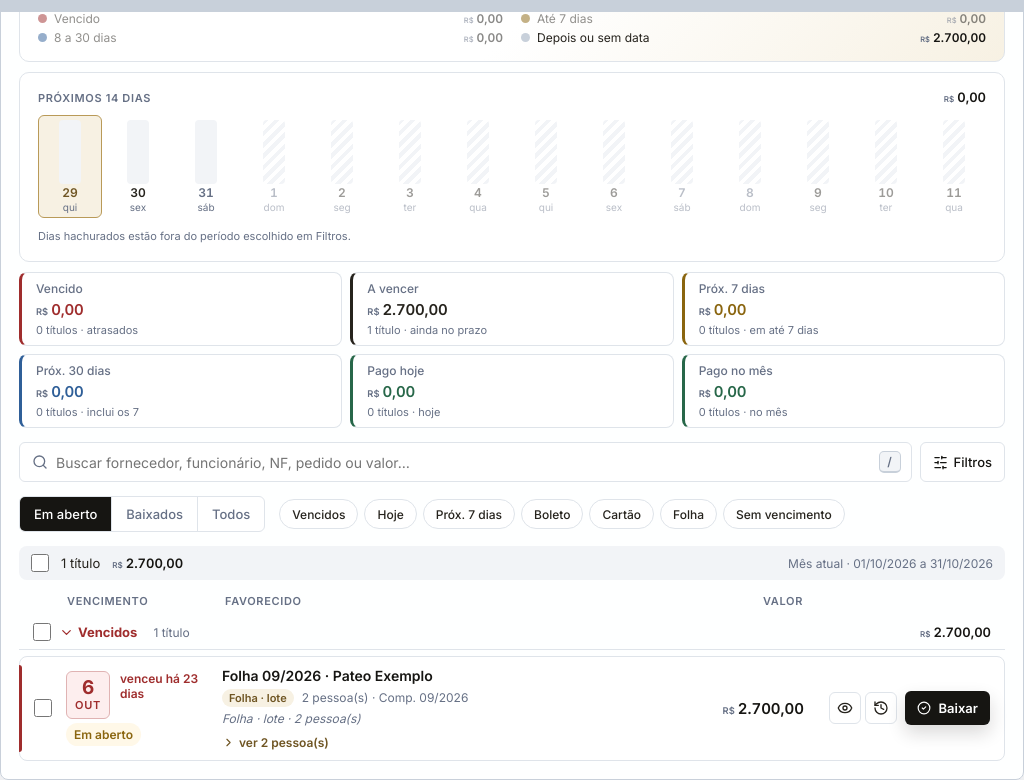
título do lote da folha no Contas a Pagar › uma linha com o selo do lote, expansível com as pessoas e os valores
(page scrolled)
Expected: the text "Folha 09/2026 · Pateo Exemplo" is shown, [222,667,433,684]
Expected: the text "Folha · lote" is shown, [222,688,294,707]
Step 1. Click the button "ver 2 pessoa(s)" → click(284, 743), box [222,735,678,750]
(page scrolled)
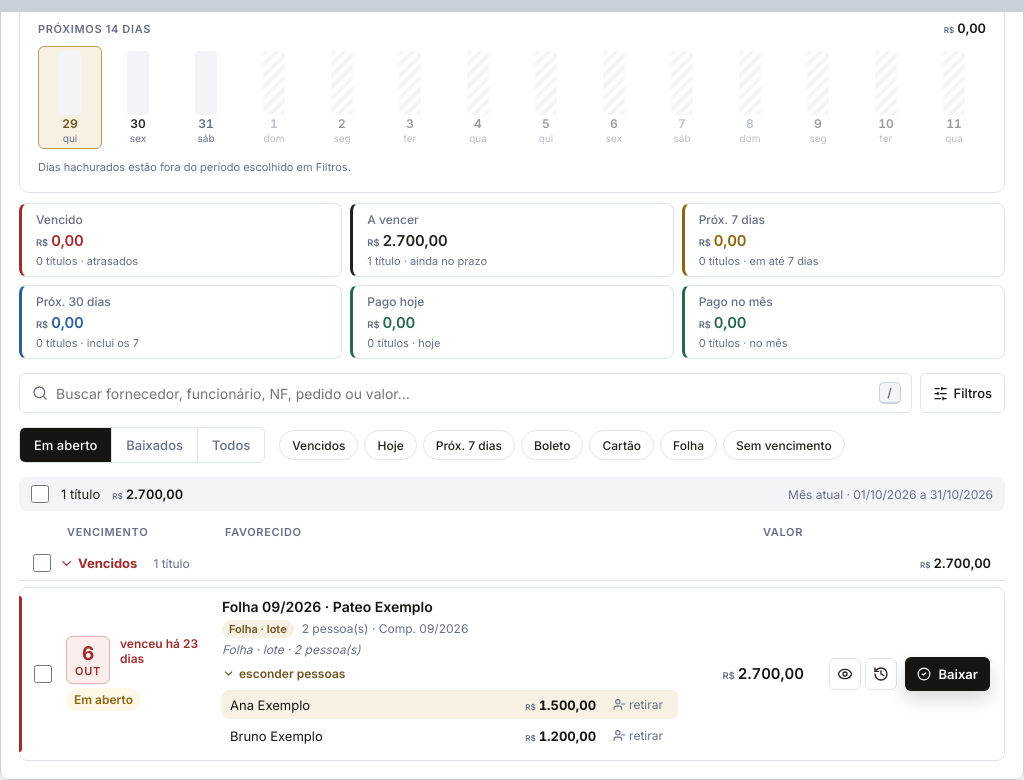
Result: the text "Ana Exemplo" is shown at [230,696,310,712]
Result: the text "Bruno Exemplo" is shown at [230,728,323,744]
